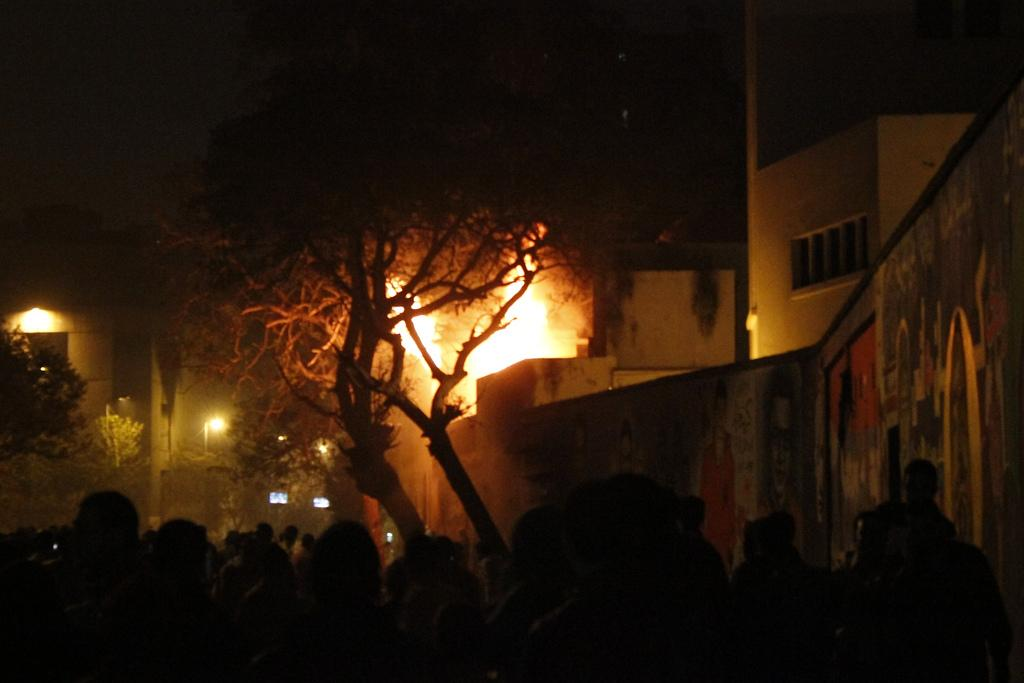fire: (495, 248, 545, 358), (398, 302, 435, 365), (27, 310, 77, 337)
